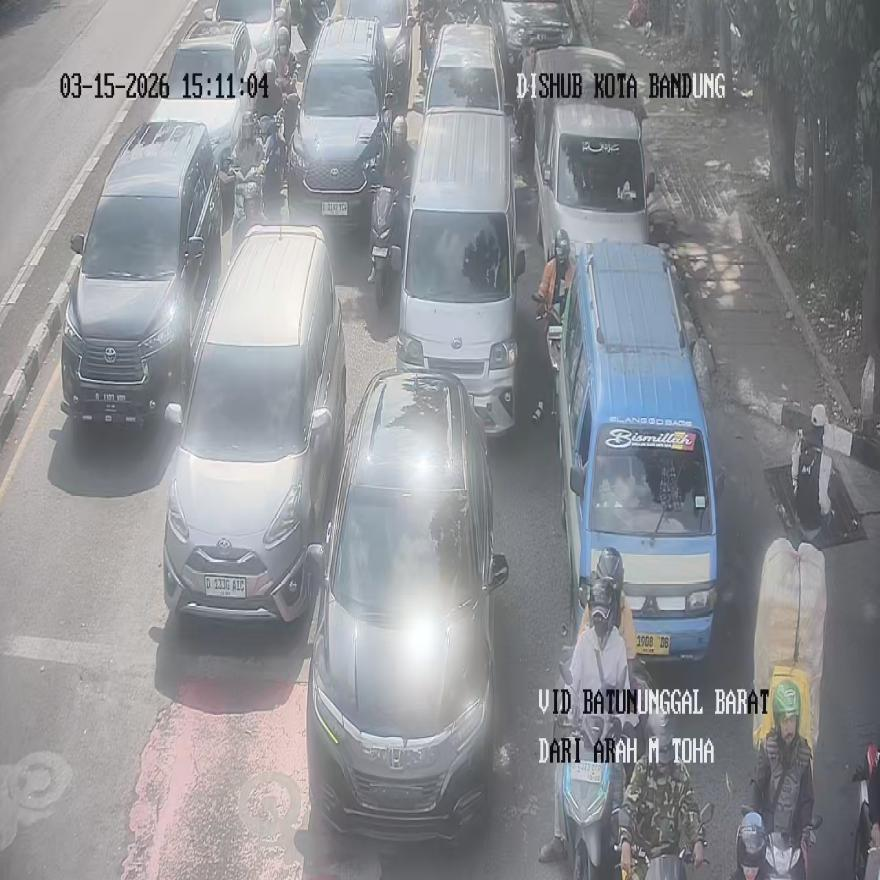Motor: (305, 369, 508, 845), (162, 224, 345, 622), (554, 240, 723, 661), (61, 121, 222, 425), (394, 108, 525, 432), (532, 46, 655, 269), (286, 17, 395, 232), (421, 22, 506, 115), (344, 0, 412, 112), (480, 0, 573, 71)
Truk: (555, 657, 639, 878), (617, 802, 712, 880), (732, 810, 821, 880), (366, 171, 404, 307), (533, 294, 564, 420), (851, 743, 879, 878), (416, 2, 453, 96), (230, 162, 266, 256), (256, 113, 283, 190)
